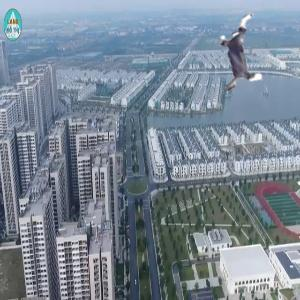drone: (195, 19, 278, 102)
